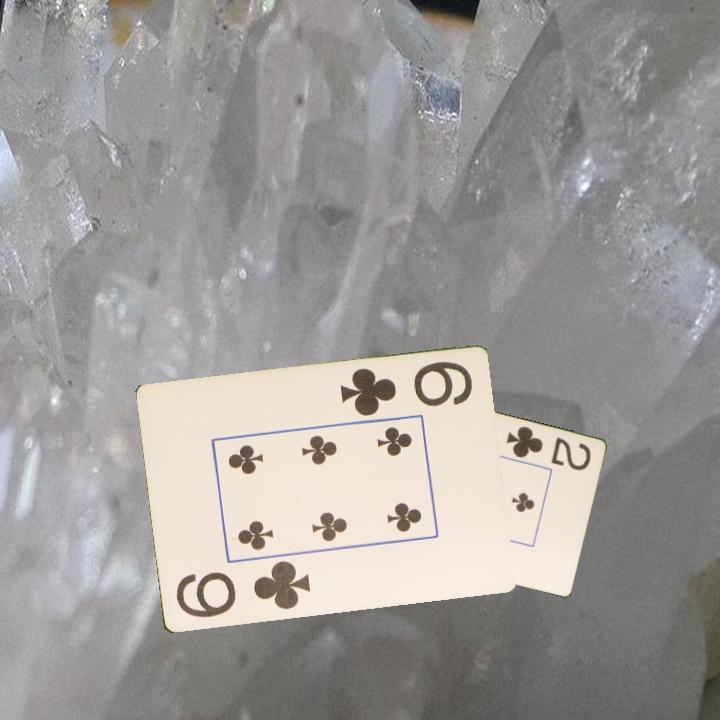2c: (502, 423, 593, 474)
6c: (172, 558, 313, 621), (335, 358, 475, 420)
